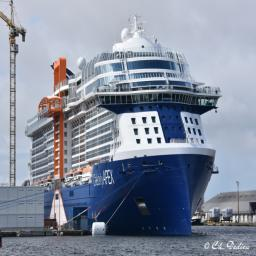cruises: (25, 14, 225, 244)
